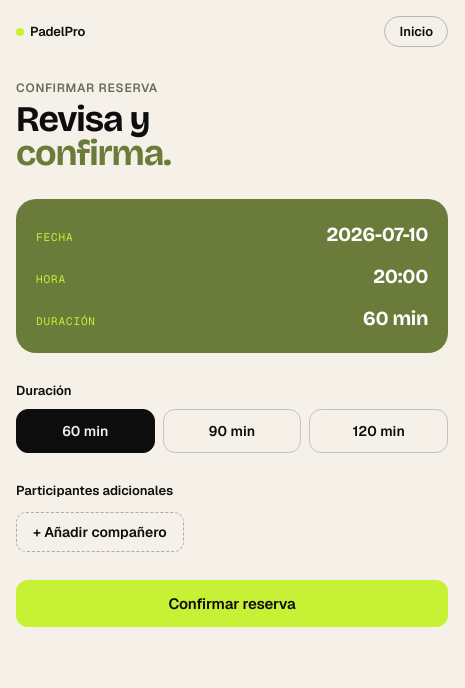
Test case: ConfirmarReservaPage (Grupo 5) › 5.5c — 422 INVALID_STATE_TRANSITION muestra mensaje de estado inválido
The image size is (465, 688).
Click the button "Confirmar reserva" at (232, 604), box [16,580,448,627]
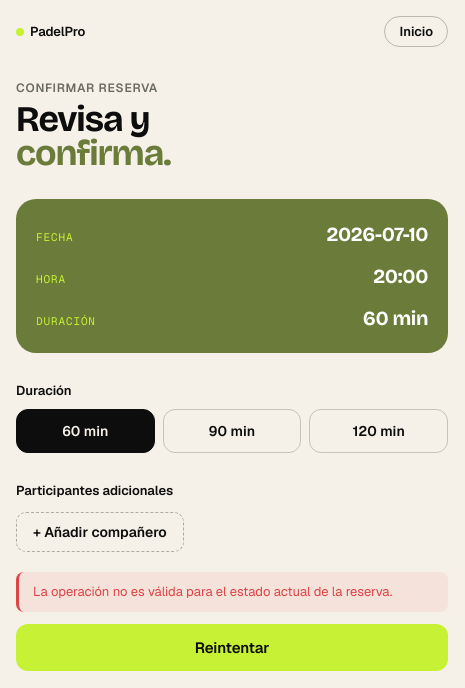
Expected: the text "La operación no es válida para el estado actual de la reserva." is shown, [16,572,448,612]
